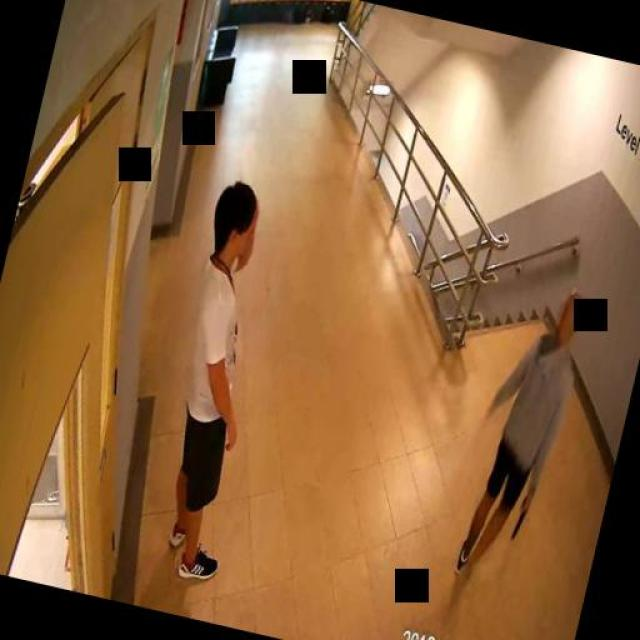gun: (510, 494, 531, 538)
